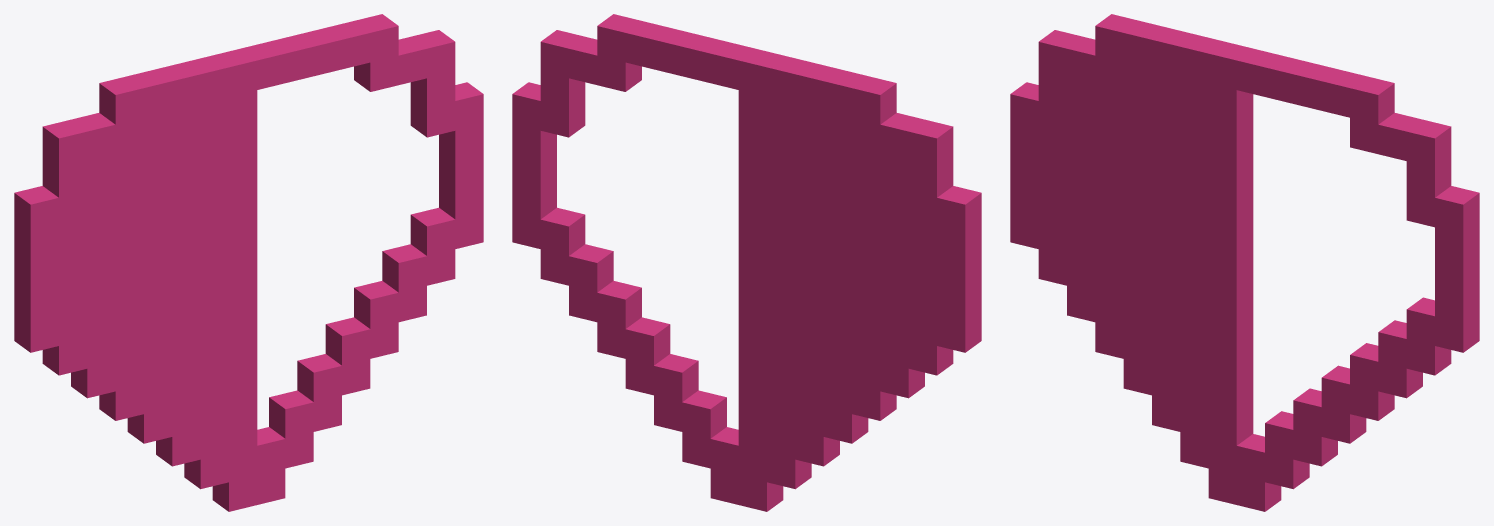
File: HP_Half.obj
The picture shows the model from 3 angles, left to right: view 1: azimuth 30°, elevation 25°; view 2: azimuth 150°, elevation 25°; view 3: azimuth 330°, elevation 25°; orthographic projection.
Bounding box in the file's own units: 16 × 15 × 1.
Materials: 1 (1 with a texture image).
